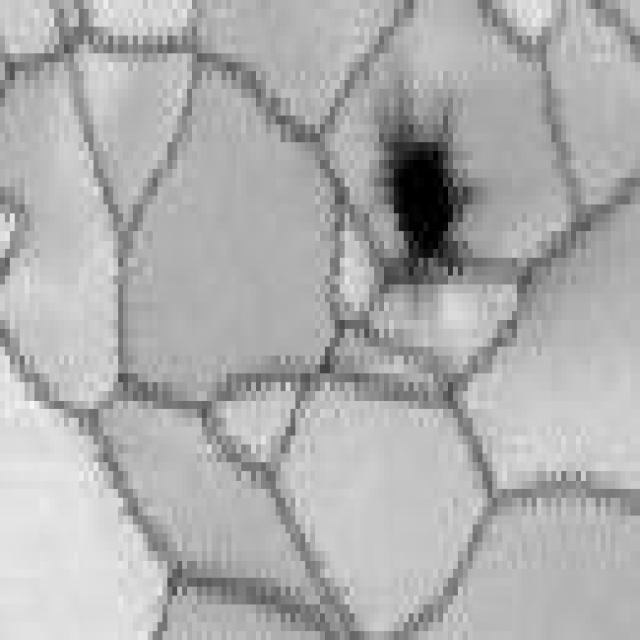good_void: (368, 68, 472, 283)
